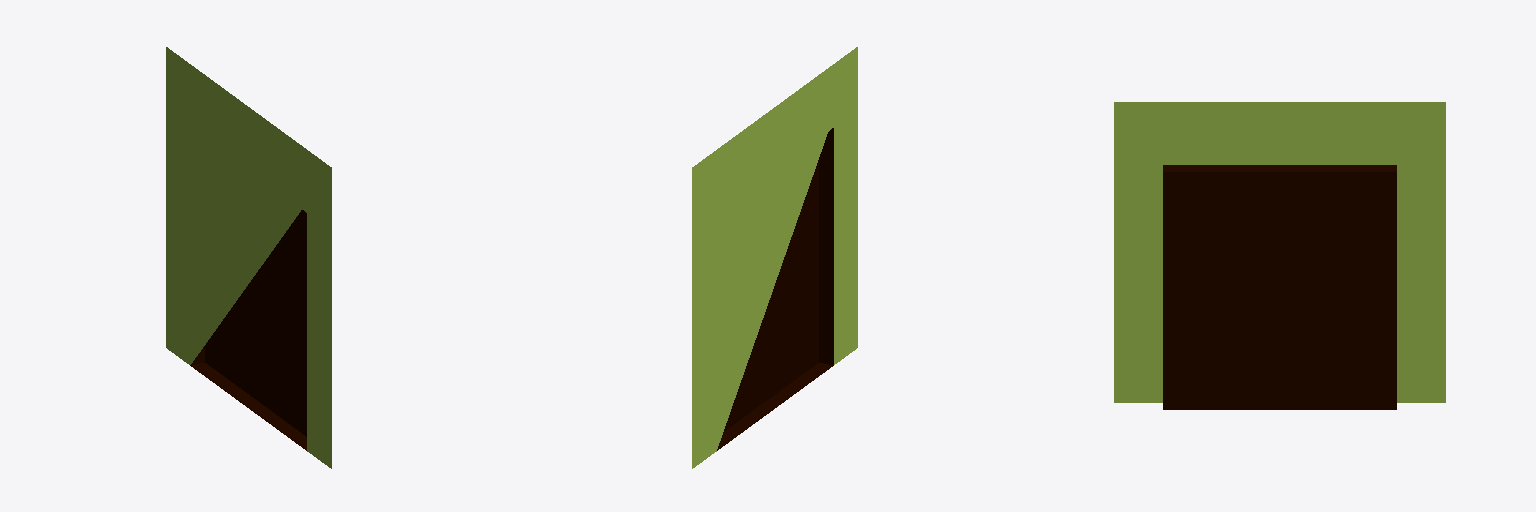
The model's file is gate.obj.
3 renders of one model, left to right at view 1: azimuth 30°, elevation 25°; view 2: azimuth 150°, elevation 25°; view 3: azimuth 270°, elevation 25°, orthographic.
Visible parts, largest first — view 1: Plane; view 2: Plane; view 3: Plane.
Part boxes in pixels (left/top/right/bottom): Plane: left=166, top=47, right=331, bottom=468; Plane: left=692, top=47, right=857, bottom=468; Plane: left=1114, top=102, right=1445, bottom=409.
Size of the model in its own units: 0.1 by 2 by 2.